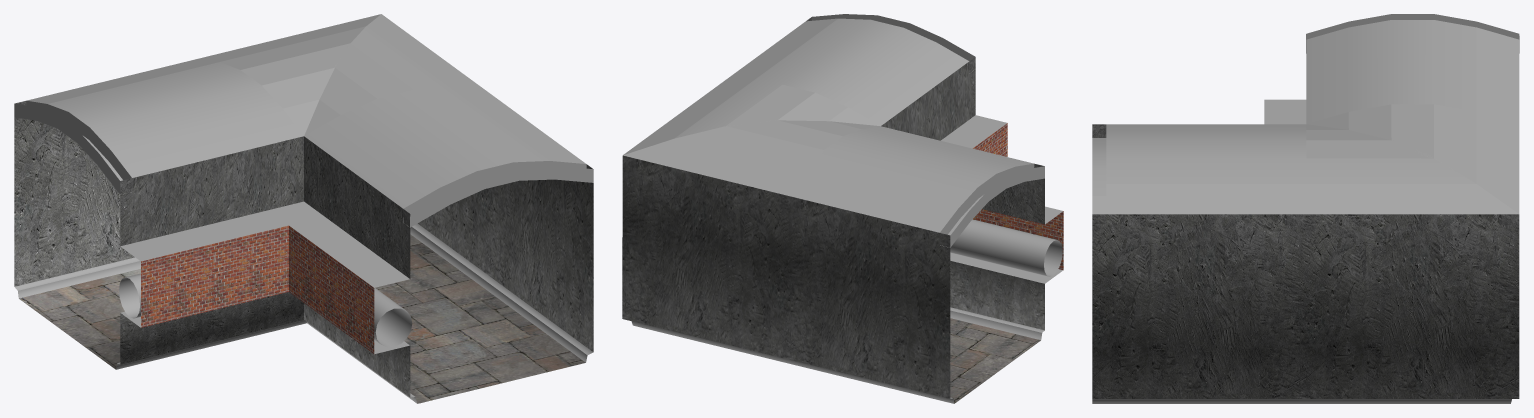
The model's file is korob02.fbx.
The picture shows the model from 3 angles, left to right: view 1: azimuth 30°, elevation 25°; view 2: azimuth 150°, elevation 25°; view 3: azimuth 270°, elevation 25°; orthographic projection. The views are drawn at different scales.
Visible parts, largest first — view 1: polySurface12; view 2: polySurface12; view 3: polySurface12.
Boxes of the visible parts, <box> form: polySurface12: <box>14,14,593,403</box>; polySurface12: <box>622,14,1063,403</box>; polySurface12: <box>1092,14,1519,403</box>.
Bounding box in the file's own units: 20.04 × 11.02 × 20.04.
